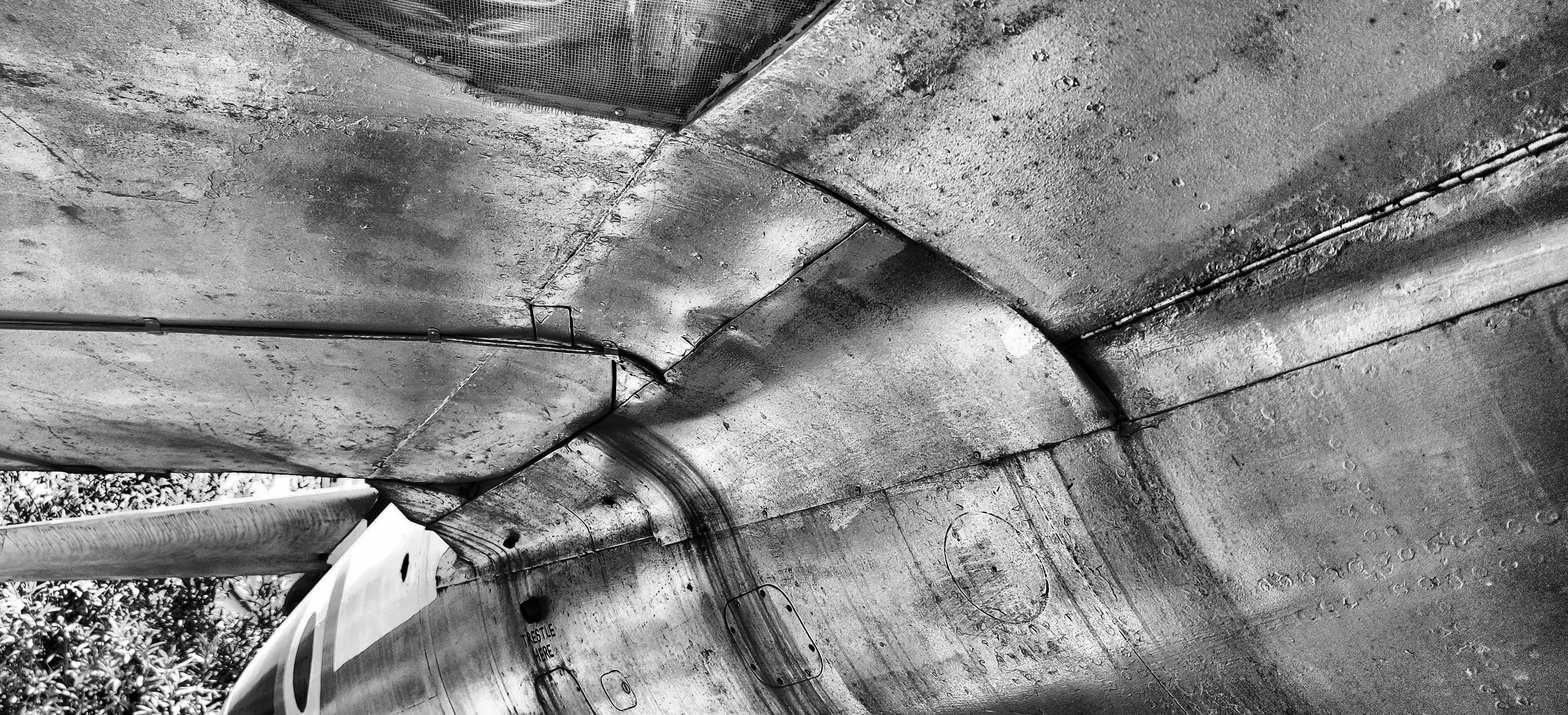crack: (459, 481, 479, 499), (681, 335, 696, 348), (623, 683, 630, 694)
dent: (586, 339, 765, 434), (197, 432, 343, 477), (1060, 349, 1115, 413), (862, 234, 917, 270), (999, 312, 1036, 356)
missing-head: (603, 496, 613, 506), (750, 663, 758, 671), (777, 677, 785, 685), (759, 589, 766, 598), (808, 644, 815, 653), (730, 626, 737, 634), (786, 604, 792, 613), (540, 700, 546, 707), (548, 674, 554, 679), (576, 687, 580, 692)
paint-peel-off: (1110, 410, 1171, 438), (981, 455, 1005, 468), (535, 310, 553, 325)
scratch: (1, 112, 63, 163)
